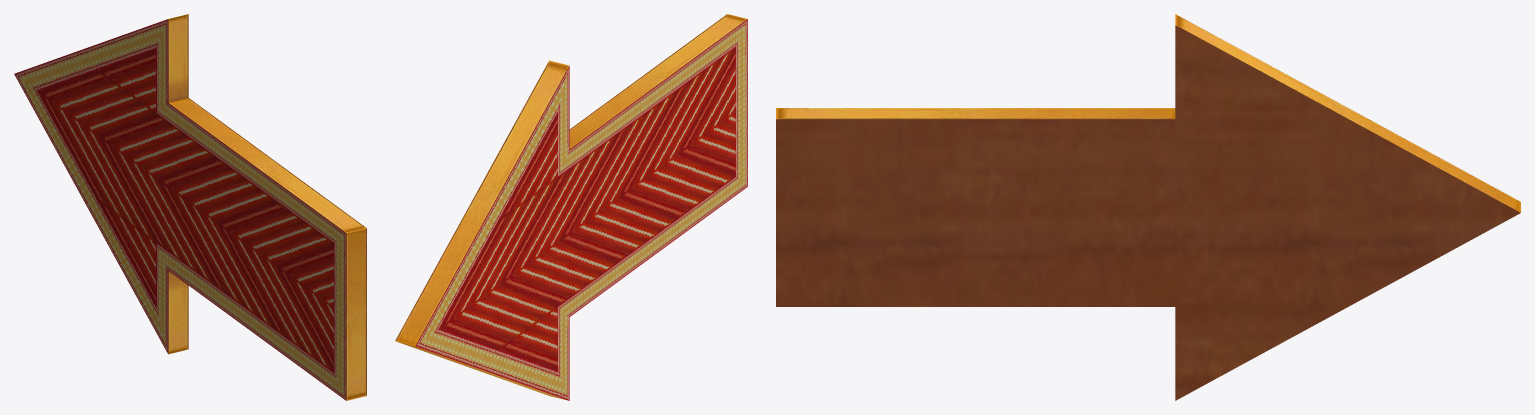
Rendered from arrow.obj.
3 views of the same model, side by side, from view 1: azimuth 30°, elevation 25°; view 2: azimuth 150°, elevation 25°; view 3: azimuth 270°, elevation 25° (orthographic). The views are drawn at different scales.
Visible parts, largest first — view 1: Object_1; view 2: Object_1; view 3: Object_1.
Boxes of the visible parts, left/top/right/bottom form: Object_1: left=14, top=14, right=366, bottom=400; Object_1: left=395, top=14, right=747, bottom=400; Object_1: left=776, top=14, right=1520, bottom=400.
Bounding box in the file's own units: 5 × 78 × 140.
